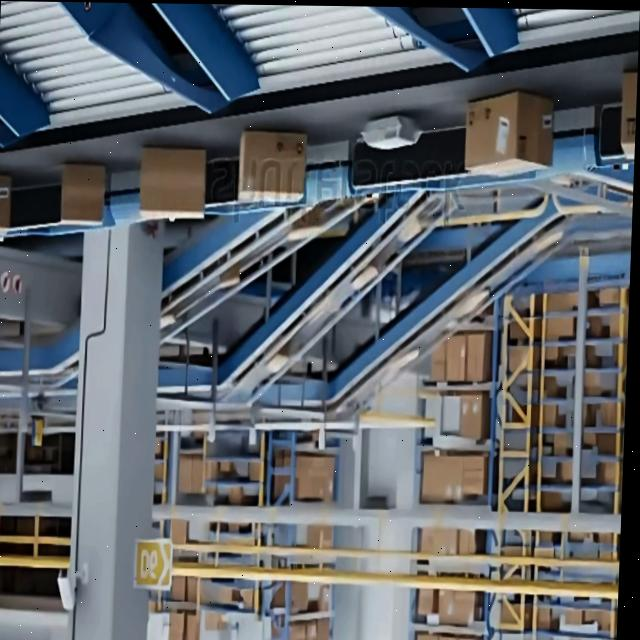product 1: (235, 128, 307, 205), (136, 145, 206, 222), (462, 88, 518, 177)
product 2: (360, 112, 421, 151)
